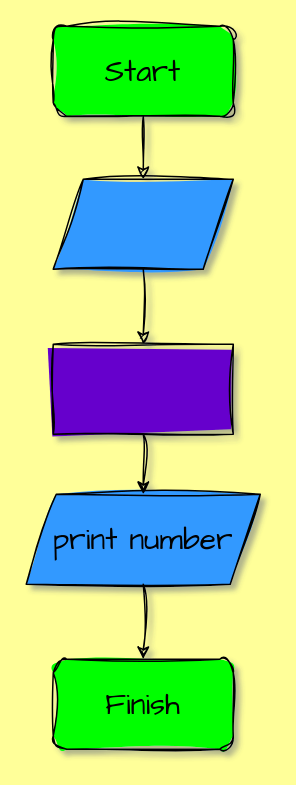
Some shapes in this 296 by 785 pixel diagram are drawn without their labels. The centre of each missing label's shape, as x and y in pixels:
"number" goes at [142,223].
"number *= number" goes at [142,388].
